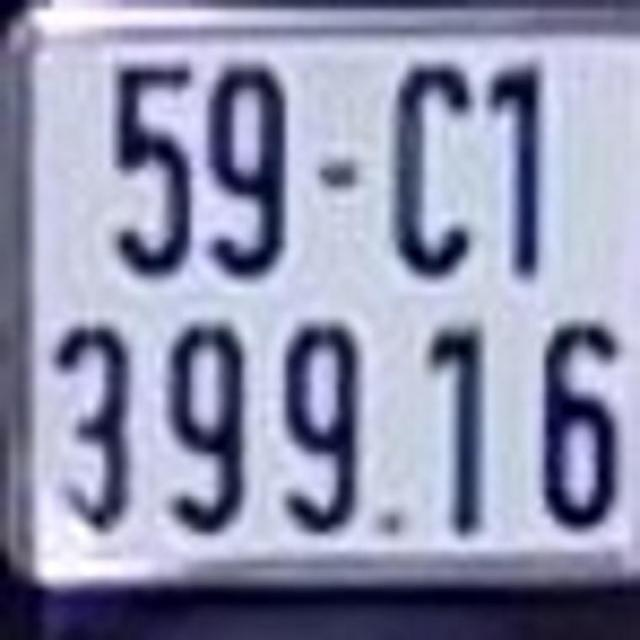1: (482, 54, 548, 286), (421, 320, 490, 540)
3: (53, 318, 132, 532)
5: (106, 58, 194, 279)
6: (530, 310, 626, 534)
9: (205, 59, 294, 280), (277, 314, 359, 532), (165, 320, 246, 535)
C: (389, 55, 474, 282)
